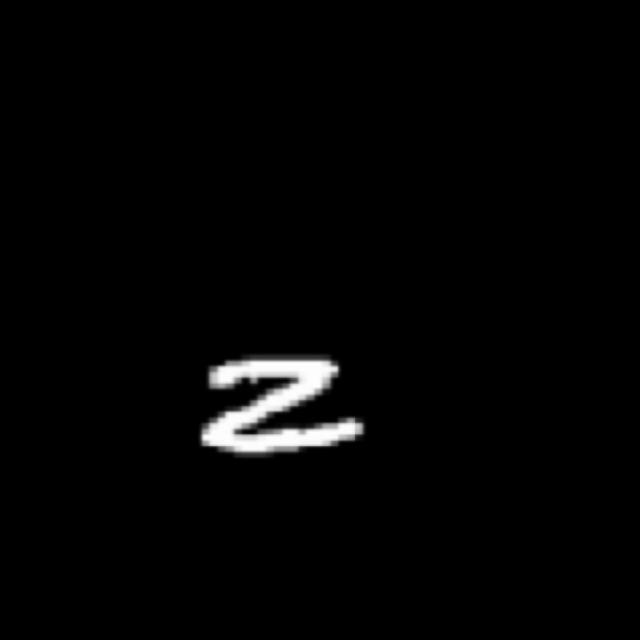two -2-: (194, 351, 367, 459)
